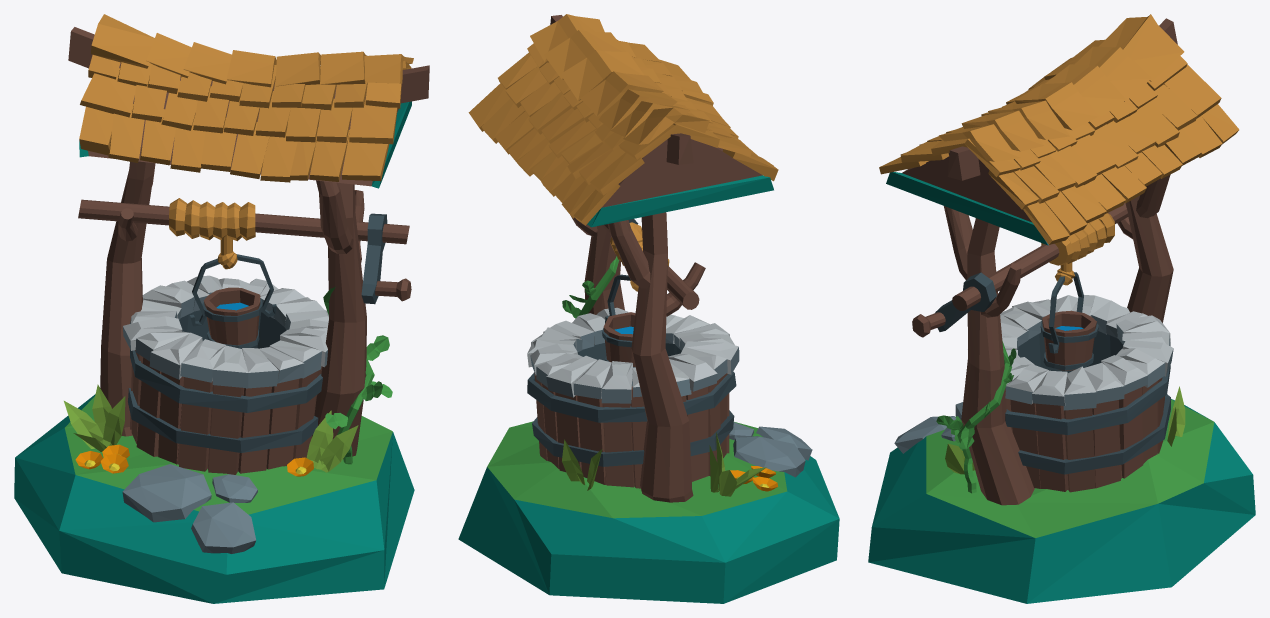
The picture shows the model from 3 angles, left to right: view 1: azimuth 30°, elevation 25°; view 2: azimuth 150°, elevation 25°; view 3: azimuth 270°, elevation 25°; orthographic projection. The views are drawn at different scales.
Visible parts, largest first — view 1: node_MeshObject1670557184-PolyPaper16; view 2: node_MeshObject1670557184-PolyPaper16; view 3: node_MeshObject1670557184-PolyPaper16.
Part boxes in pixels (x1,y1,x2,y2): node_MeshObject1670557184-PolyPaper16: (14,14,429,603); node_MeshObject1670557184-PolyPaper16: (458,14,839,603); node_MeshObject1670557184-PolyPaper16: (868,14,1255,603).
Bounding box in the file's own units: 0.4501 × 0.5819 × 0.4214.
